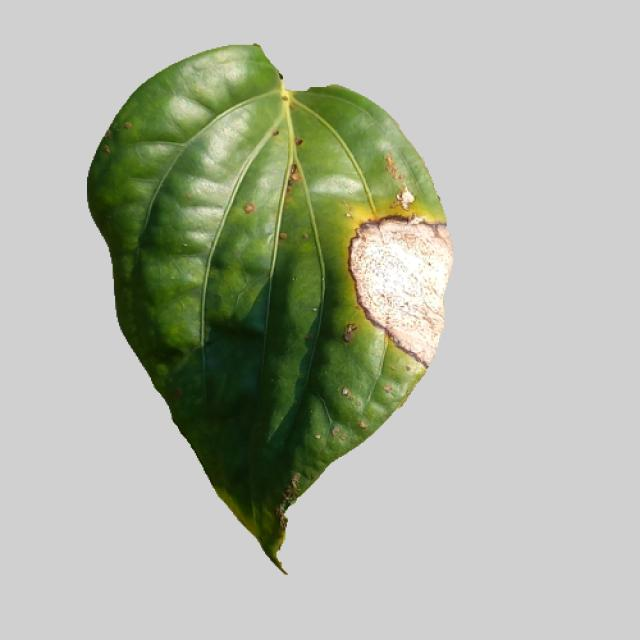leaf-blight: (70, 54, 454, 573)
